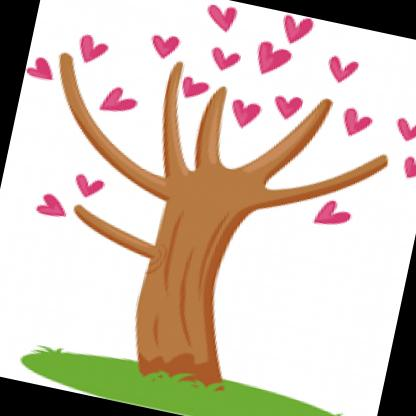branch_cut: (36, 37, 400, 244)
trunk_reflex: (130, 218, 244, 358)
